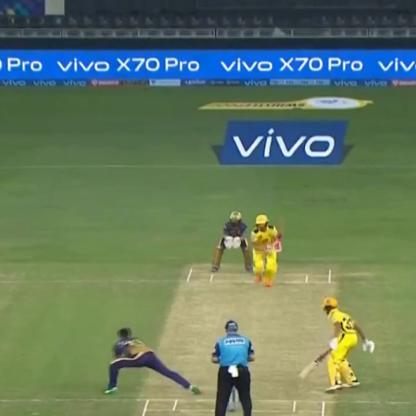pitch: (140, 249, 338, 416)
